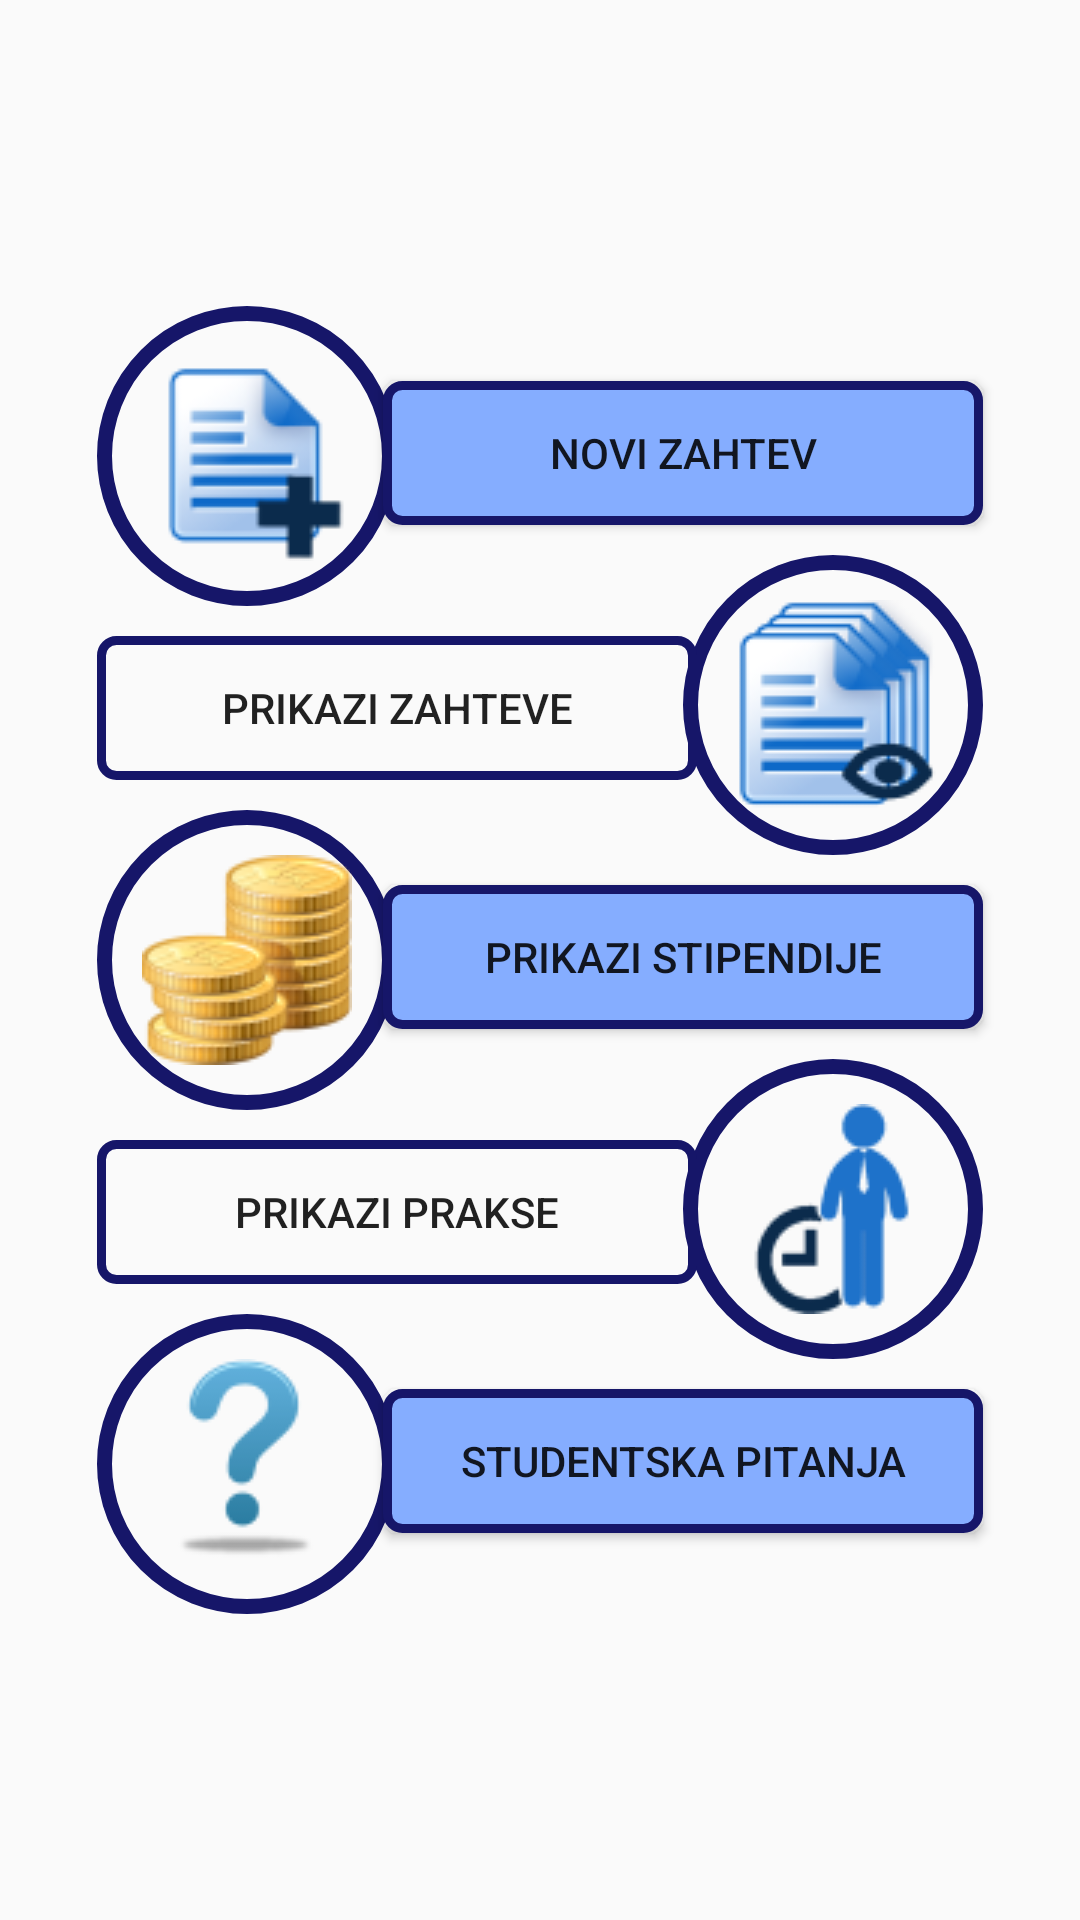

Icons on this 1080w x 1920h Android screen, each with its box as [x1,y1,x2,y2]:
faq: [97,1314,397,1614]
view internships: [755,1104,909,1314]
